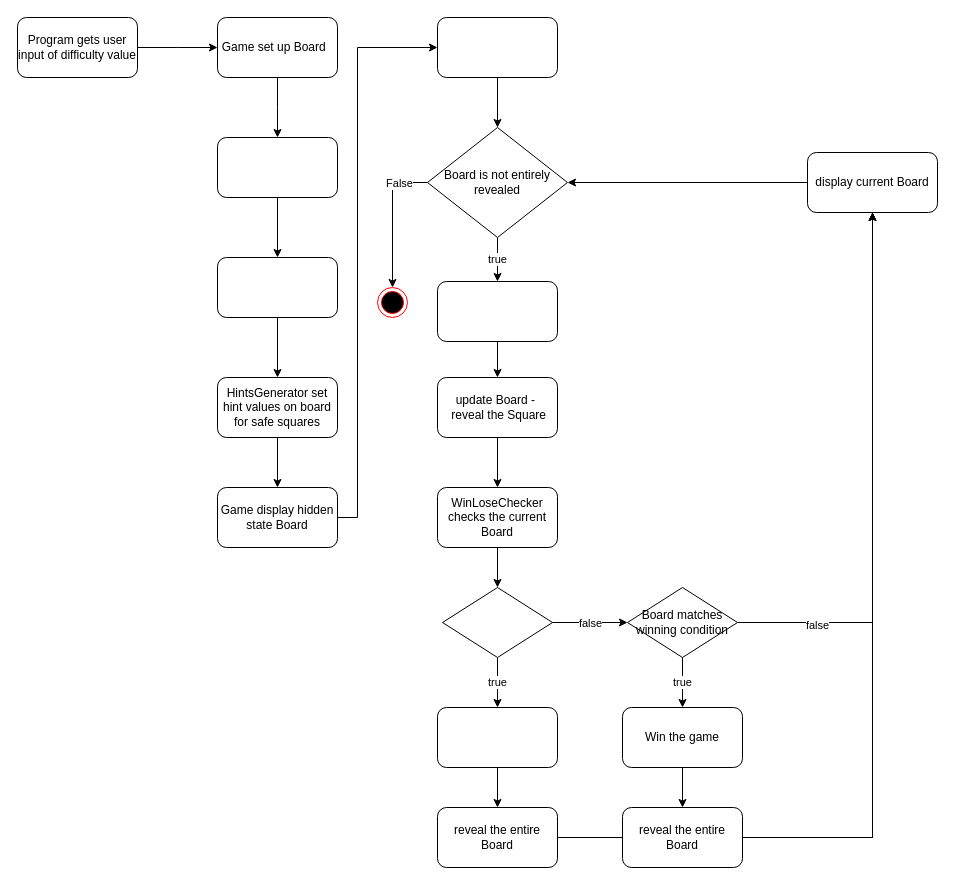
The diagram is 955 pixels wide and 885 high, and some of its shapes have lost their labels. Here are the shapes that lost their labels. From the top down, the centre of each, then its label:
At (497,47): "Game Play".
At (277,167): "Game create empty Board".
At (277,287): "MinesGenerator set mines randomly on board".
At (497,311): "Game collects user input of Location value".
At (497,622): "Board matches losing condition".
At (497,737): "Lose the game".
